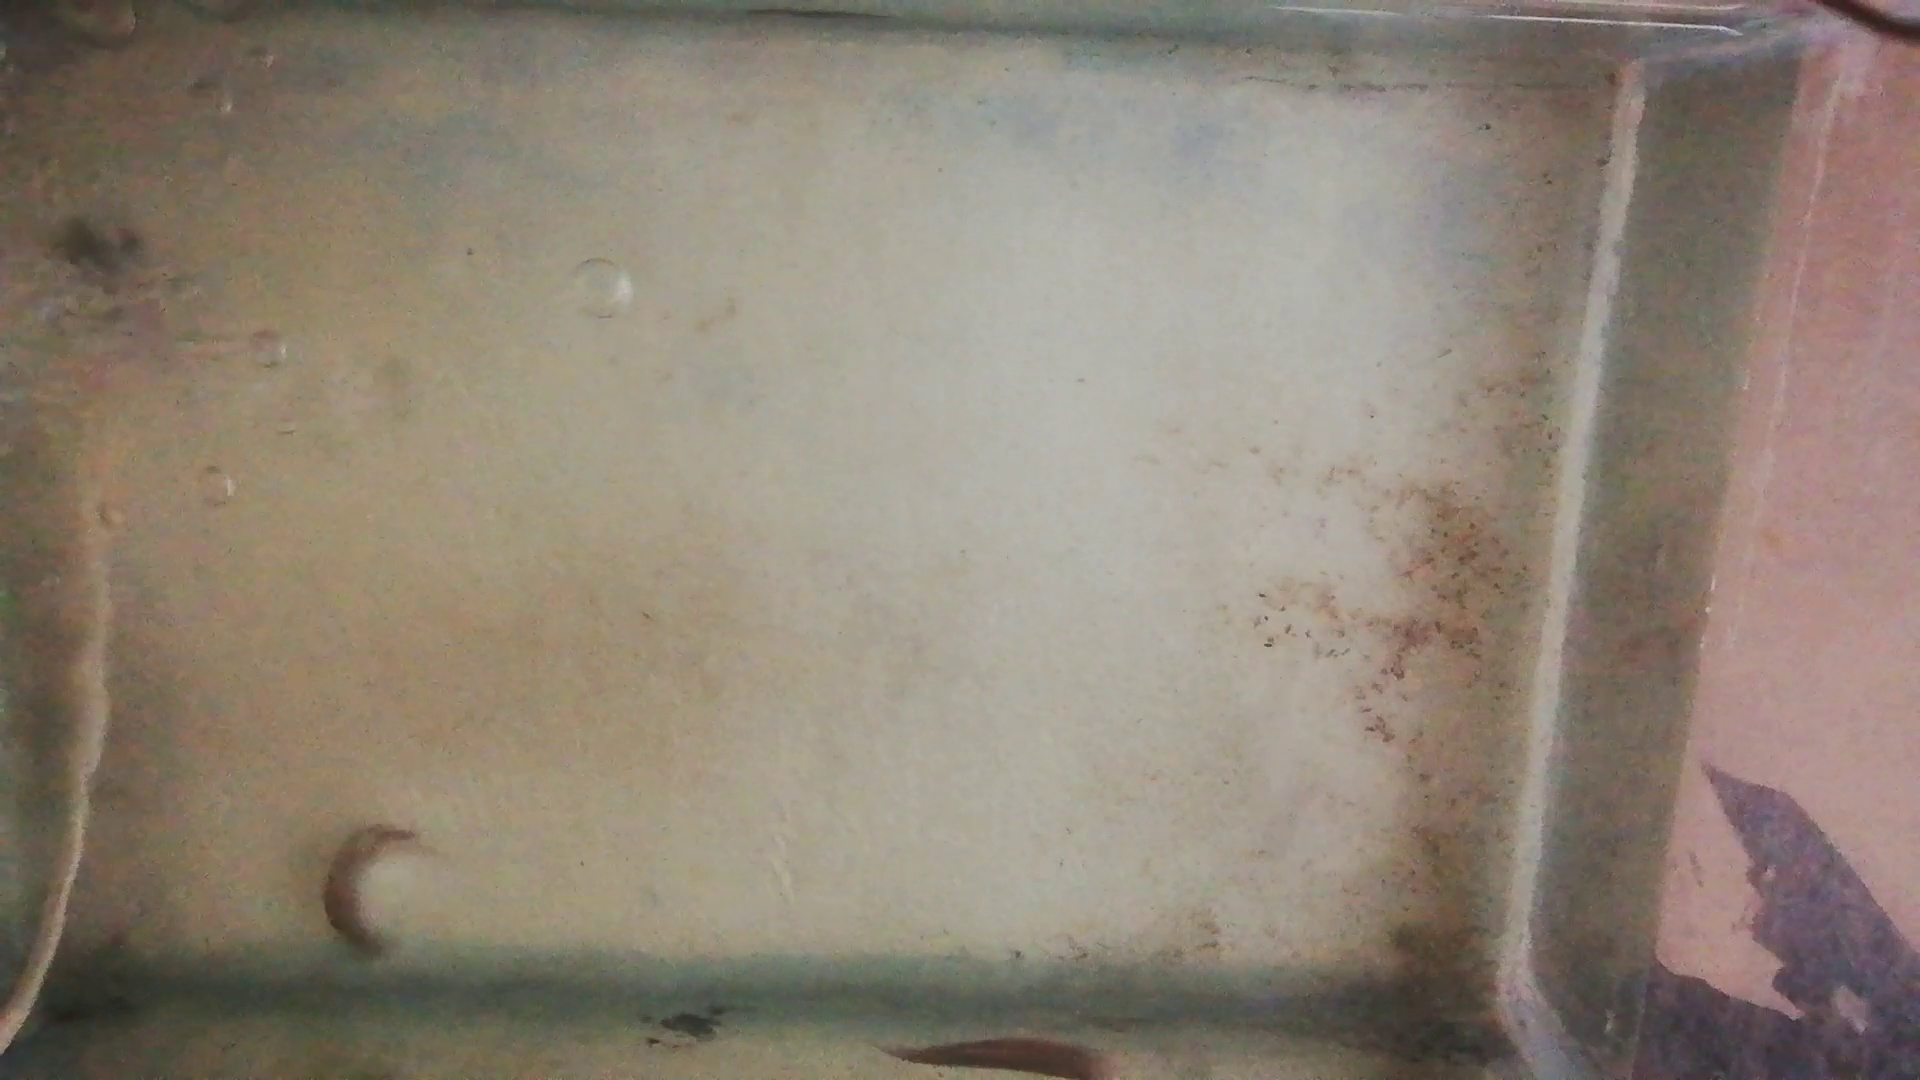fish: (320, 824, 415, 957), (886, 1033, 1116, 1080)
